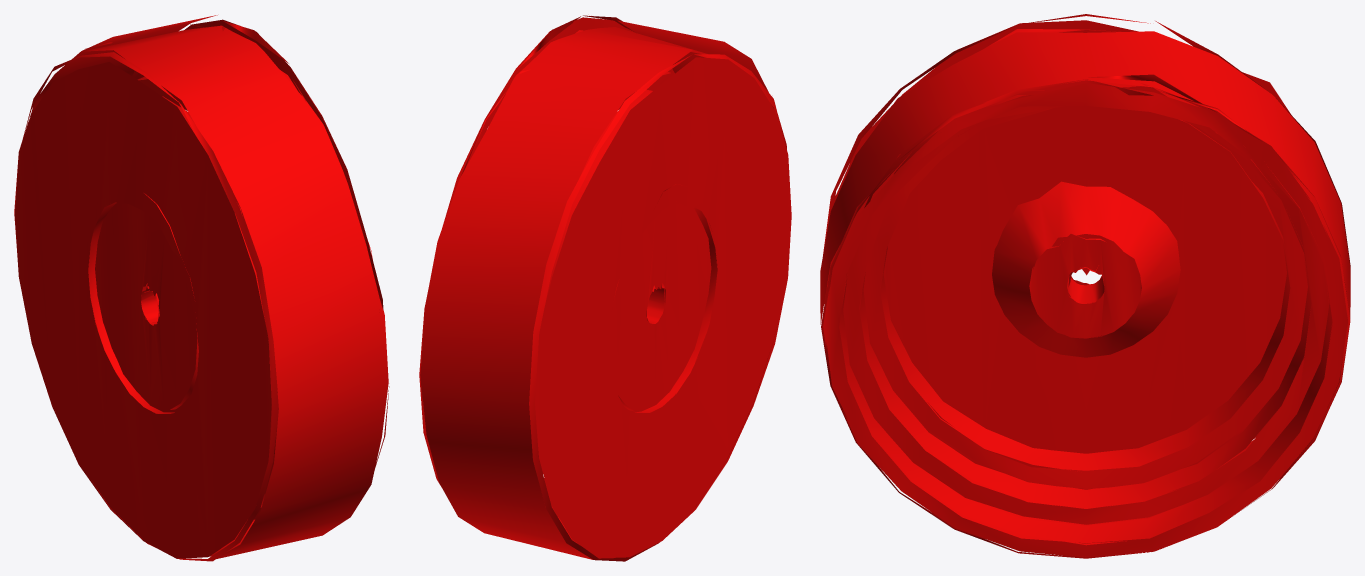
3 renders of one model, left to right at view 1: azimuth 30°, elevation 25°; view 2: azimuth 150°, elevation 25°; view 3: azimuth 270°, elevation 25°, orthographic.
Visible parts, largest first — view 1: Renderer Node; view 2: Renderer Node; view 3: Renderer Node.
Boxes of the visible parts, left/top/right/bottom form: Renderer Node: left=14, top=15, right=389, bottom=561; Renderer Node: left=419, top=15, right=791, bottom=561; Renderer Node: left=820, top=14, right=1350, bottom=558.
Size of the model in its own units: 0.1801 by 0.7131 by 0.6935.
Materials: 1 (1 with a texture image).
